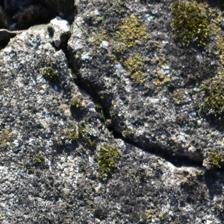Crack: (59, 42, 208, 182)
